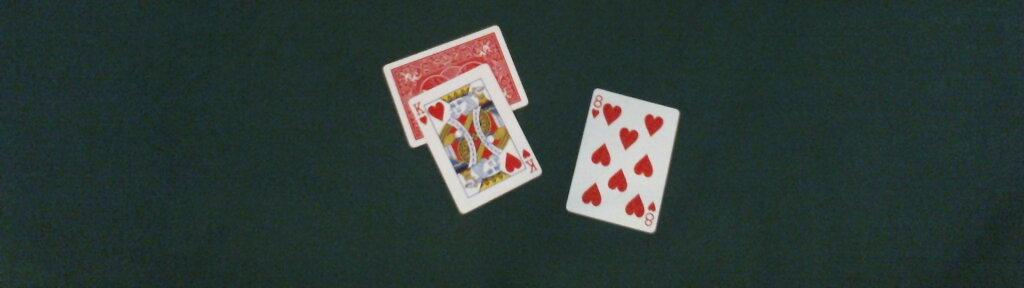back: (382, 25, 530, 147)
eight: (566, 88, 680, 233)
king: (409, 63, 542, 213)
